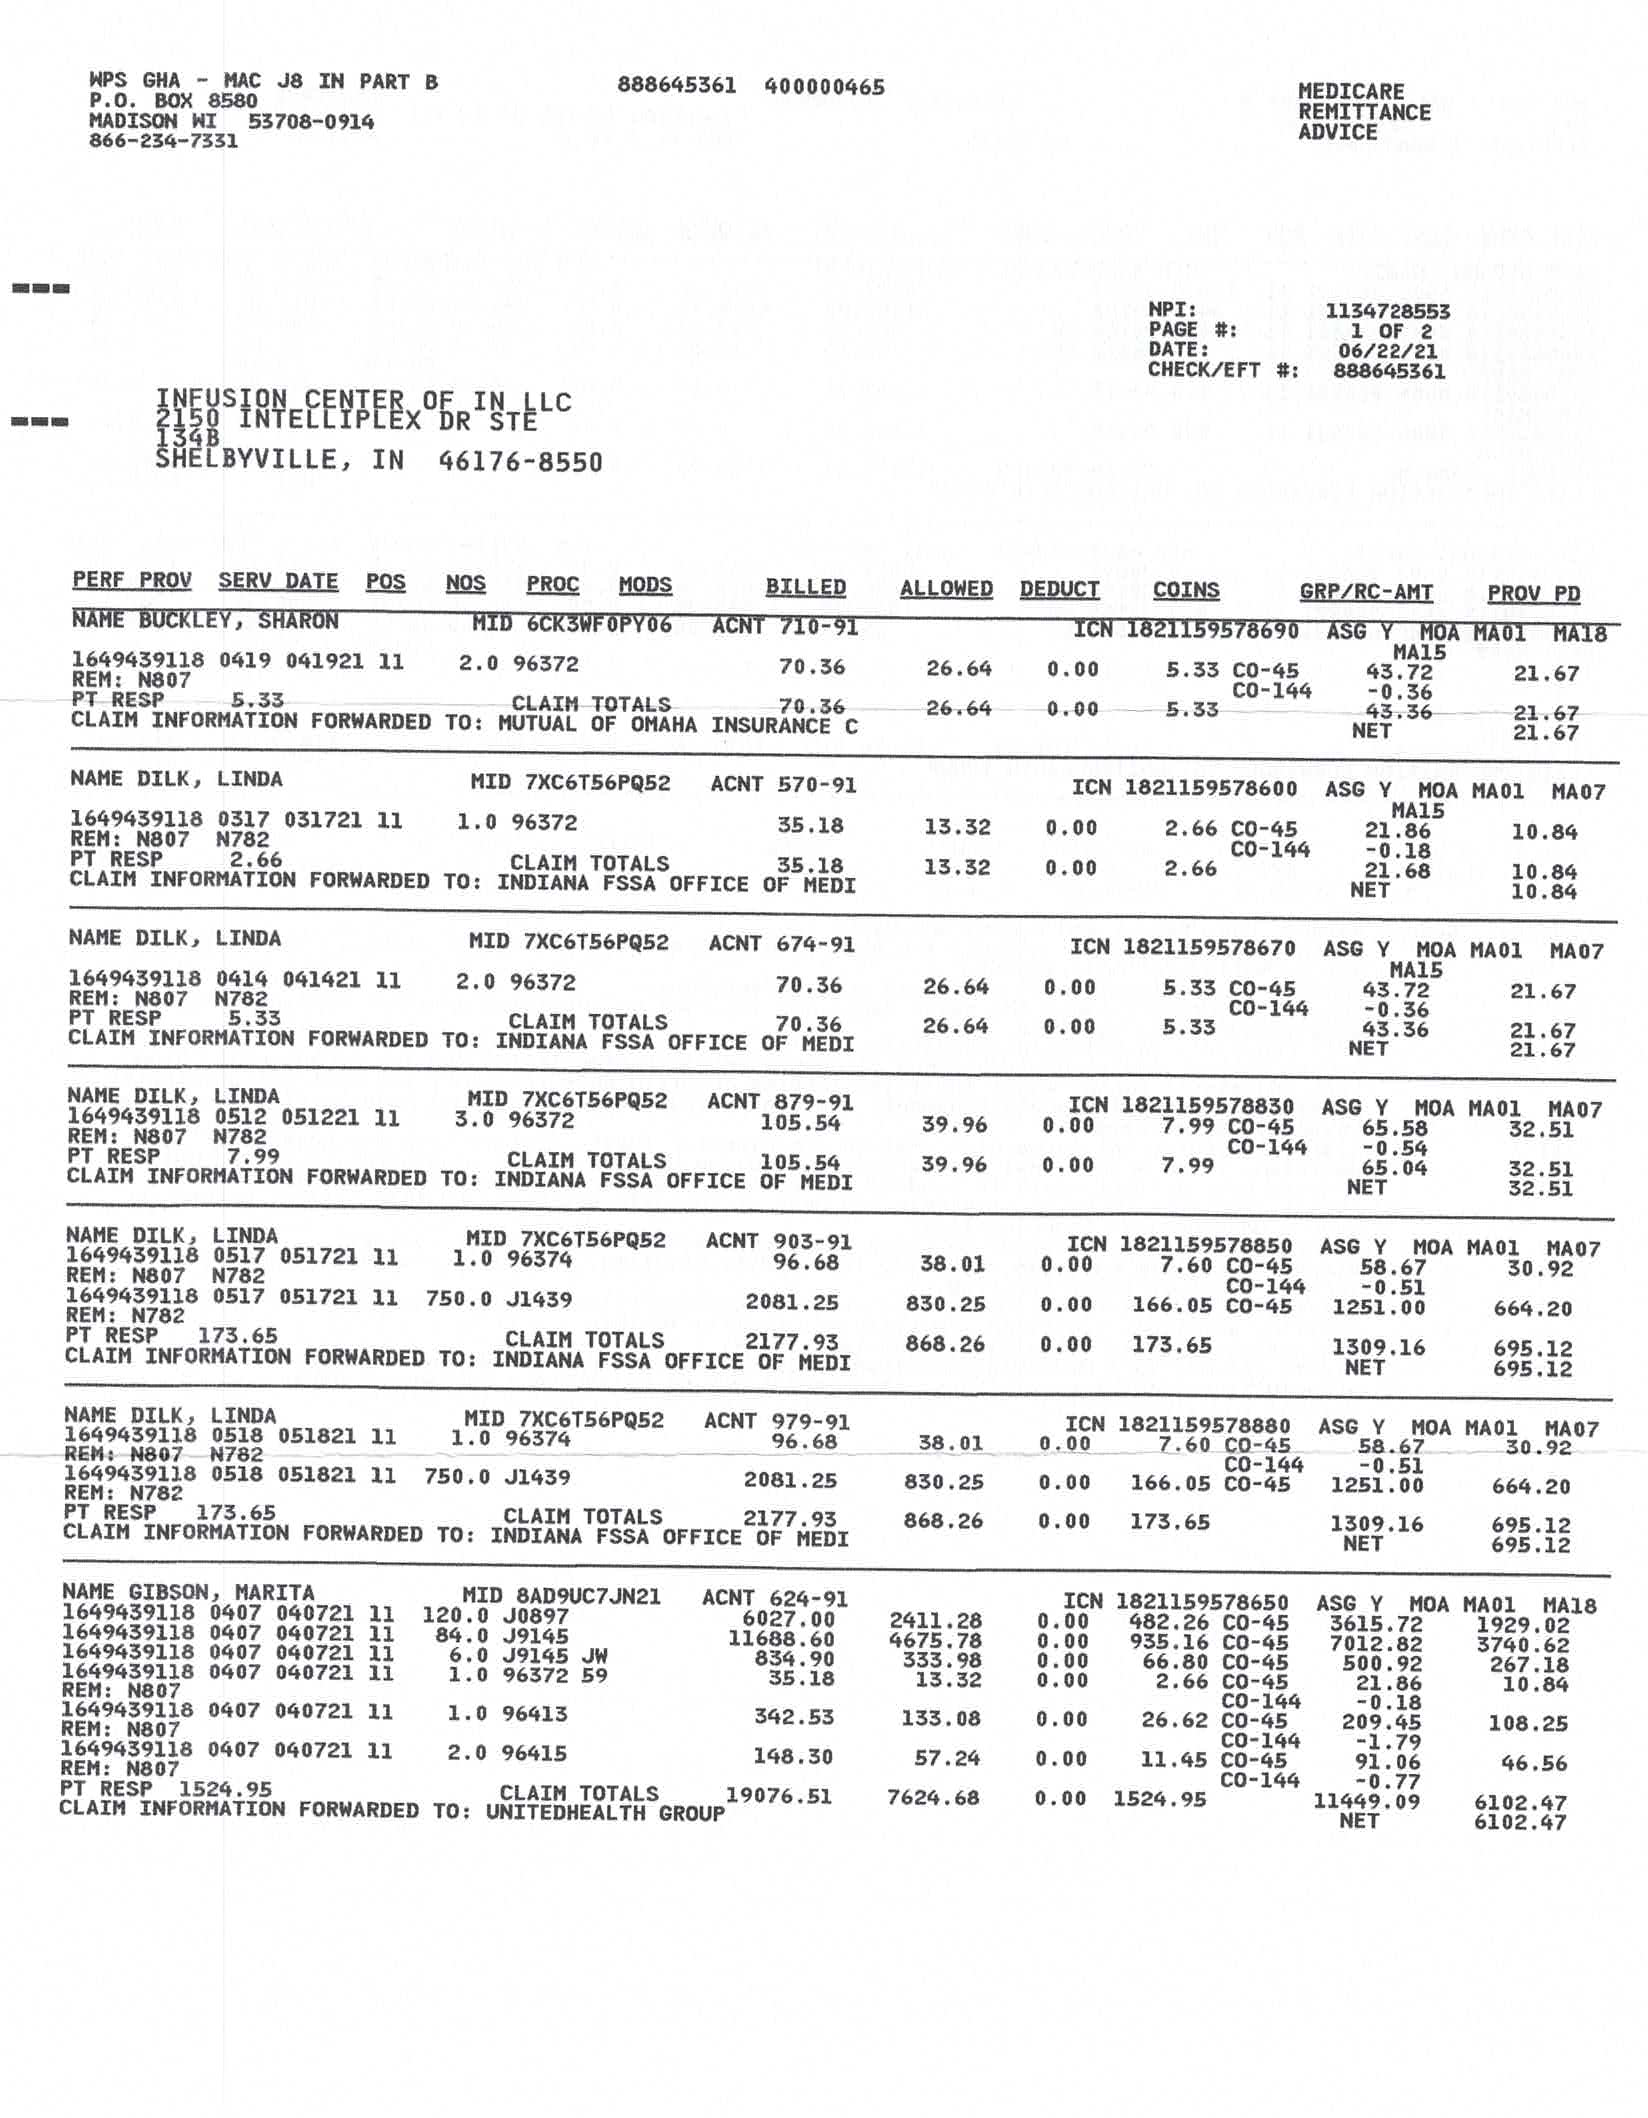data: (127, 359, 648, 512), (1090, 273, 1509, 419), (72, 57, 466, 182)
table: (48, 547, 1634, 1594)
